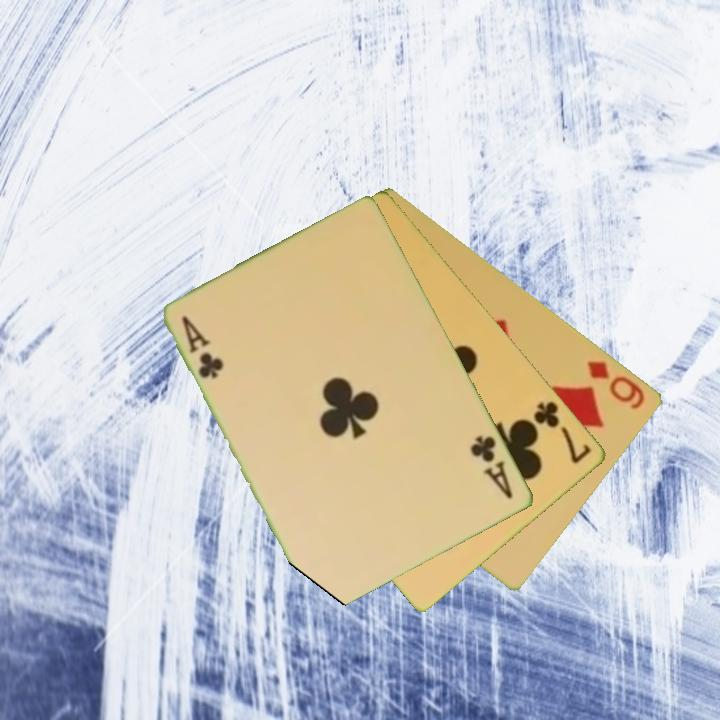6d: (583, 357, 649, 412)
7c: (530, 397, 595, 467)
Ac: (467, 432, 516, 502), (178, 312, 227, 382)
